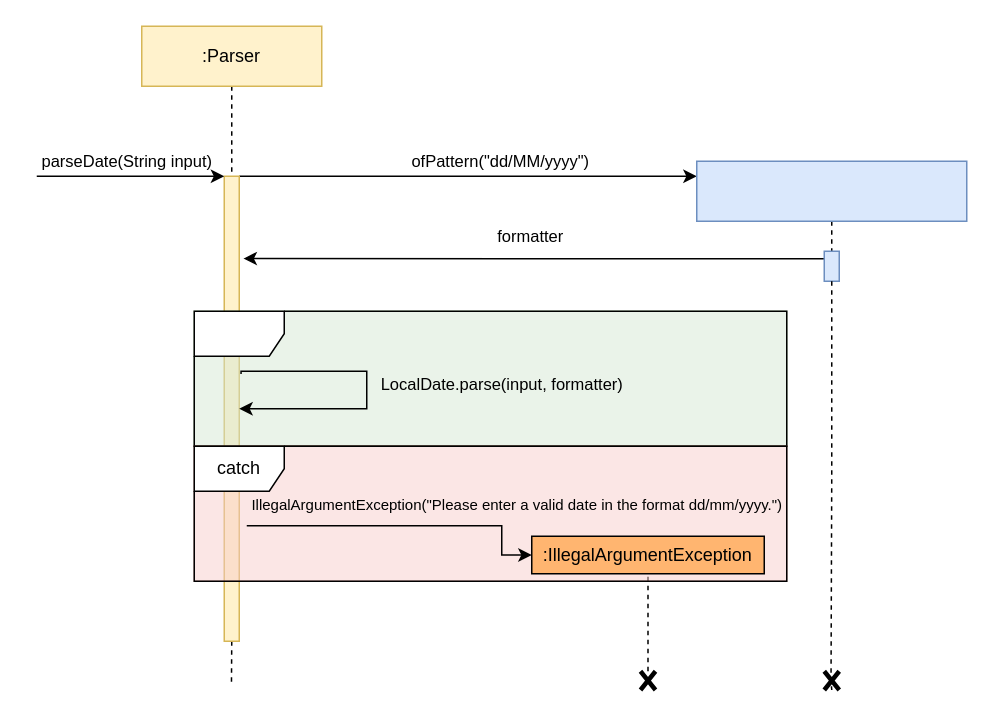
Image size: 993x719. Some labels were removed from this diagram. Each missing label, with the box of its shape:
formatter: DateTimeFormatter: (695, 160, 967, 221)
try: (193, 310, 787, 446)
